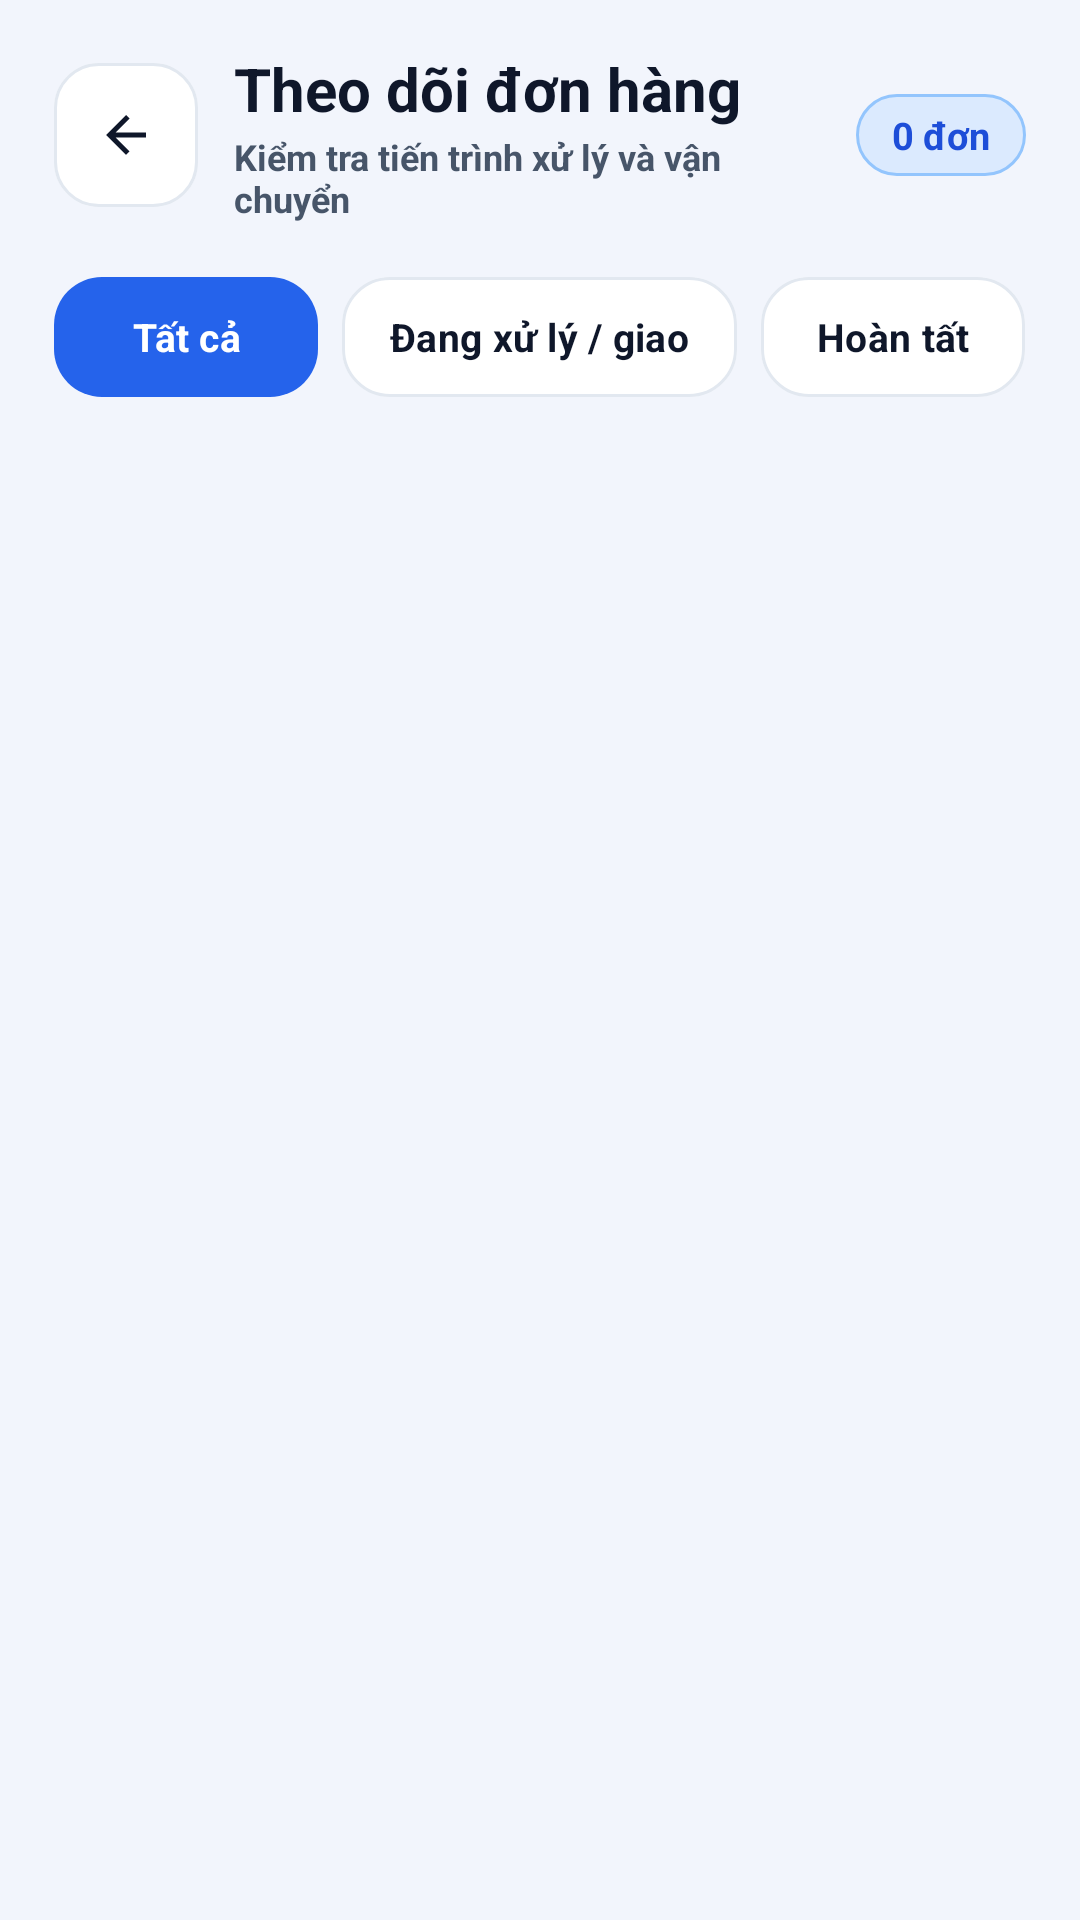

Screen size 1080x1920. Icon name, then its center in pixels as (x=x, y=y):
Quay lại: (x=126, y=135)
